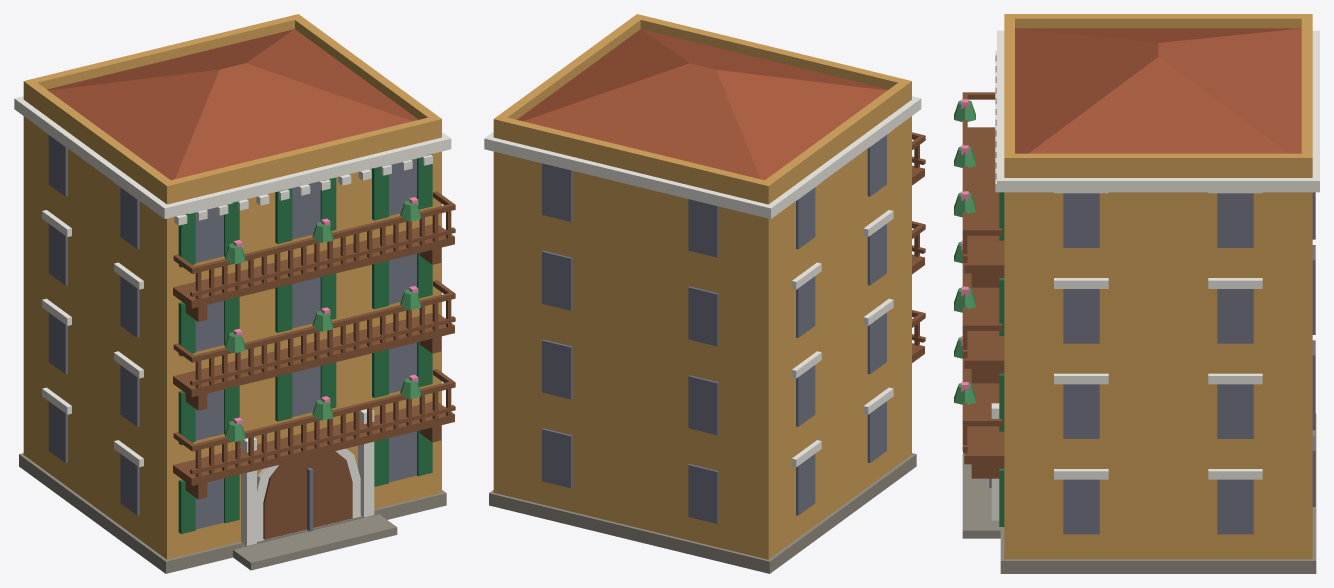
File: house-1x1-4f-colonial-a.glb
3 renders of one model, left to right at view 1: azimuth 30°, elevation 25°; view 2: azimuth 150°, elevation 25°; view 3: azimuth 270°, elevation 25°, orthographic. The views are drawn at different scales.
Visible parts, largest first — view 1: house-1x1-4f-colonial-a; view 2: house-1x1-4f-colonial-a; view 3: house-1x1-4f-colonial-a.
Part boxes in pixels (x1,y1,x2,y2): house-1x1-4f-colonial-a: (14,14,455,573); house-1x1-4f-colonial-a: (484,14,925,573); house-1x1-4f-colonial-a: (954,14,1319,573).
Size of the model in its own units: 0.98 by 1.37 by 1.01.
Materials: 1 (1 with a texture image).
